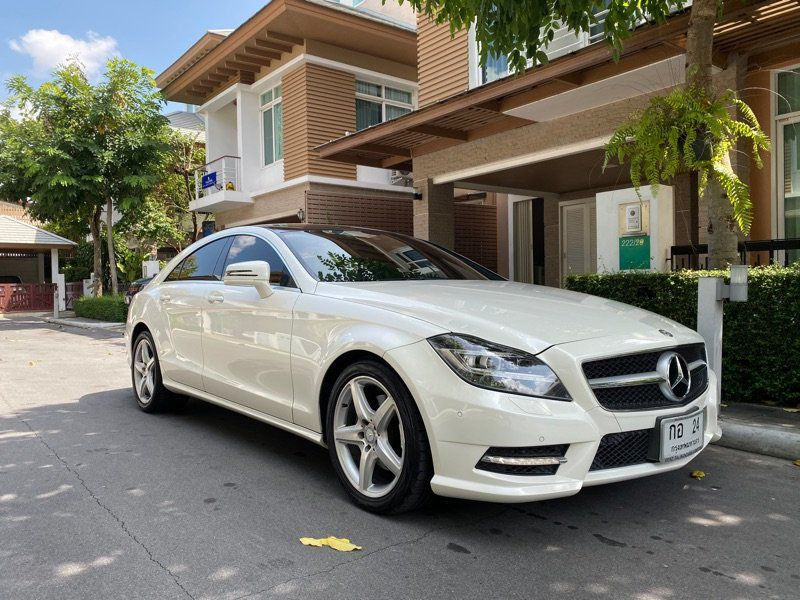sedan: (125, 219, 725, 515)
